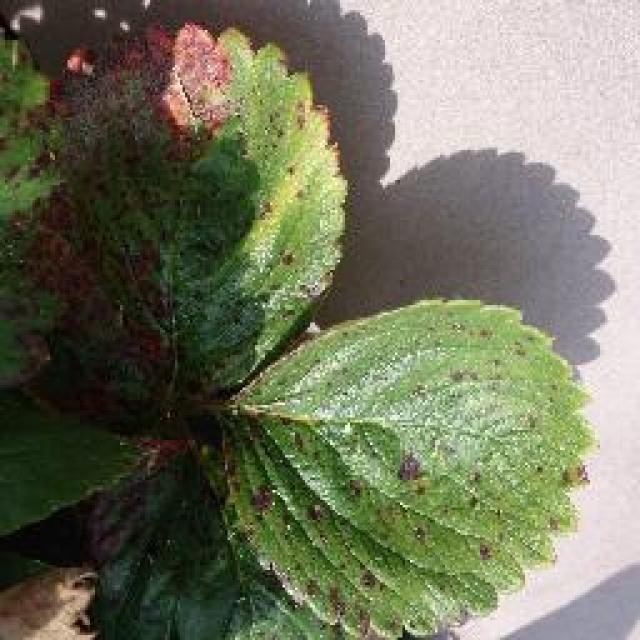Strawberry leaf scorch: (29, 110, 294, 397)
